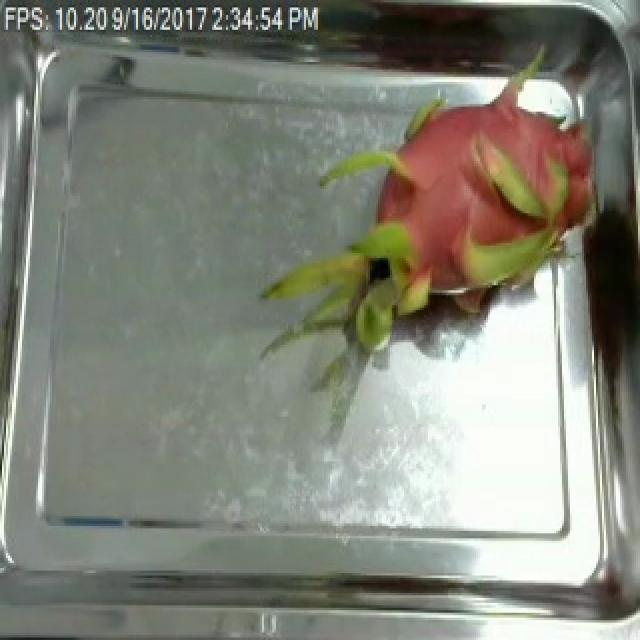fruit: (260, 20, 624, 392)
